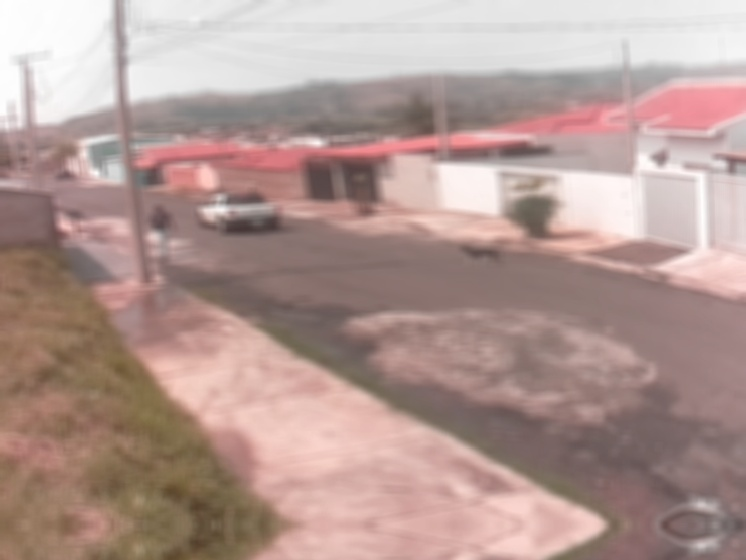person: (147, 204, 177, 264)
